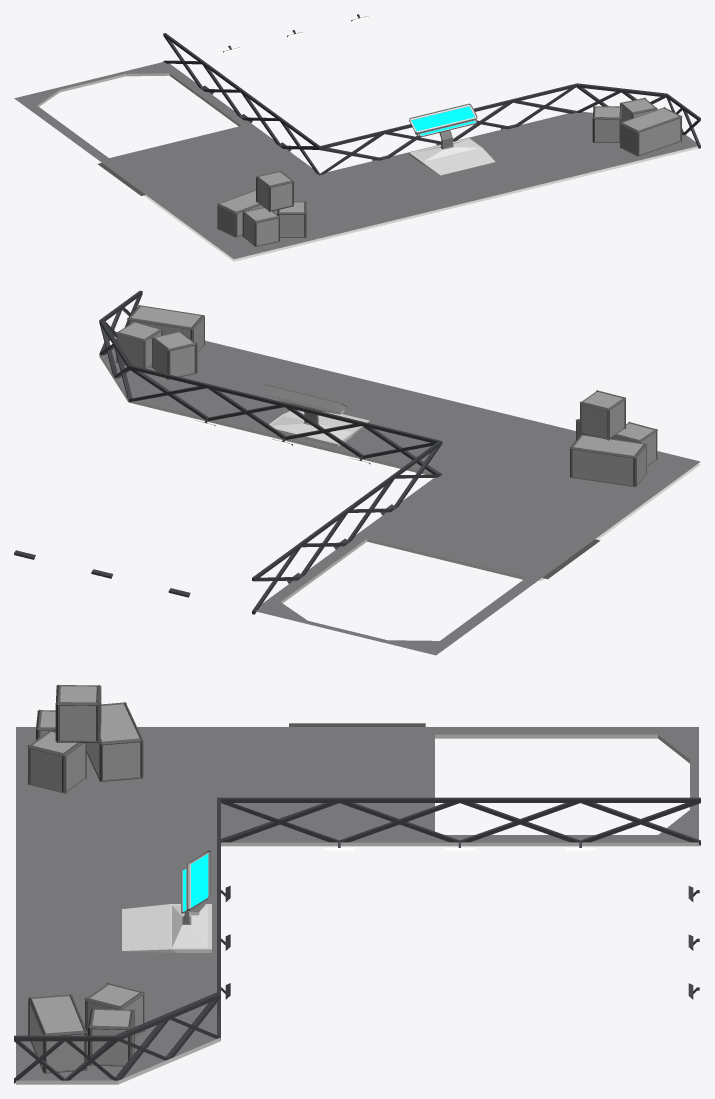
Rendered from Storage_02_Group.fbx.
3 views of the same model, one above another, from view 1: azimuth 30°, elevation 25°; view 2: azimuth 150°, elevation 25°; view 3: azimuth 270°, elevation 25° (orthographic). The views are drawn at different scales.
Visible parts, largest first — view 1: Storage_Floor_Level_03, Storage_Railing, Storage_Crates_02, Storage_Crates_01, Storage_Game_Control; view 2: Storage_Floor_Level_03, Storage_Railing, Storage_Crates_02, Storage_Crates_01, Storage_Game_Control, Storage_Lights; view 3: Storage_Floor_Level_03, Storage_Railing, Storage_Crates_02, Storage_Crates_01, Storage_Game_Control, Storage_Lights.
Part boxes in pixels (bbox=[...]): Storage_Floor_Level_03: bbox=[14, 62, 698, 261]; Storage_Railing: bbox=[163, 33, 700, 175]; Storage_Crates_02: bbox=[217, 170, 306, 246]; Storage_Crates_01: bbox=[592, 97, 682, 156]; Storage_Game_Control: bbox=[409, 103, 495, 175]; Storage_Floor_Level_03: bbox=[99, 340, 700, 655]; Storage_Railing: bbox=[99, 290, 442, 614]; Storage_Crates_02: bbox=[570, 390, 657, 487]; Storage_Crates_01: bbox=[116, 305, 204, 379]; Storage_Game_Control: bbox=[265, 384, 369, 446]; Storage_Lights: bbox=[14, 418, 393, 597]; Storage_Floor_Level_03: bbox=[16, 723, 698, 1084]; Storage_Railing: bbox=[14, 797, 700, 1083]; Storage_Crates_02: bbox=[27, 684, 143, 793]; Storage_Crates_01: bbox=[28, 982, 144, 1073]; Storage_Game_Control: bbox=[122, 850, 211, 952]; Storage_Lights: bbox=[221, 842, 699, 999].
Bounding box in the file's own units: 4950 × 557 × 4023.
